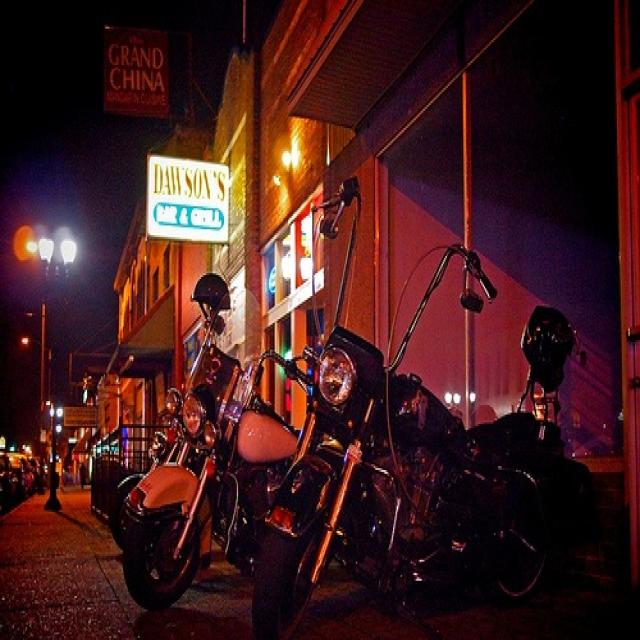Motorbike: (256, 177, 603, 640), (119, 236, 317, 608)
